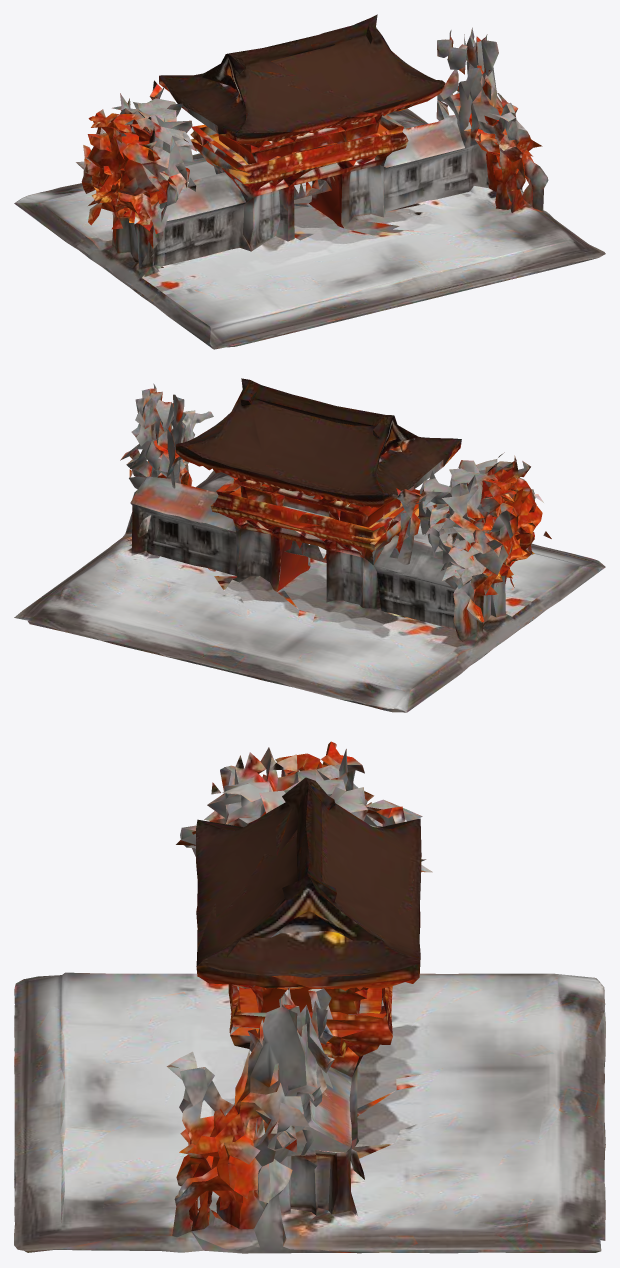
Rendered from shimogamo-shrine.glb.
3 views of the same model, one above another, from view 1: azimuth 30°, elevation 25°; view 2: azimuth 150°, elevation 25°; view 3: azimuth 270°, elevation 25° (orthographic). The views are drawn at different scales.
Visible parts, largest first — view 1: logan-textured.obj; view 2: logan-textured.obj; view 3: logan-textured.obj.
Boxes of the visible parts, x1,y1,x2,y2 form: logan-textured.obj: (14,14,605,349); logan-textured.obj: (14,378,605,712); logan-textured.obj: (14,741,605,1253).
Size of the model in its own units: 1 by 0.4637 by 0.8735.
Materials: 1 (1 with a texture image).
